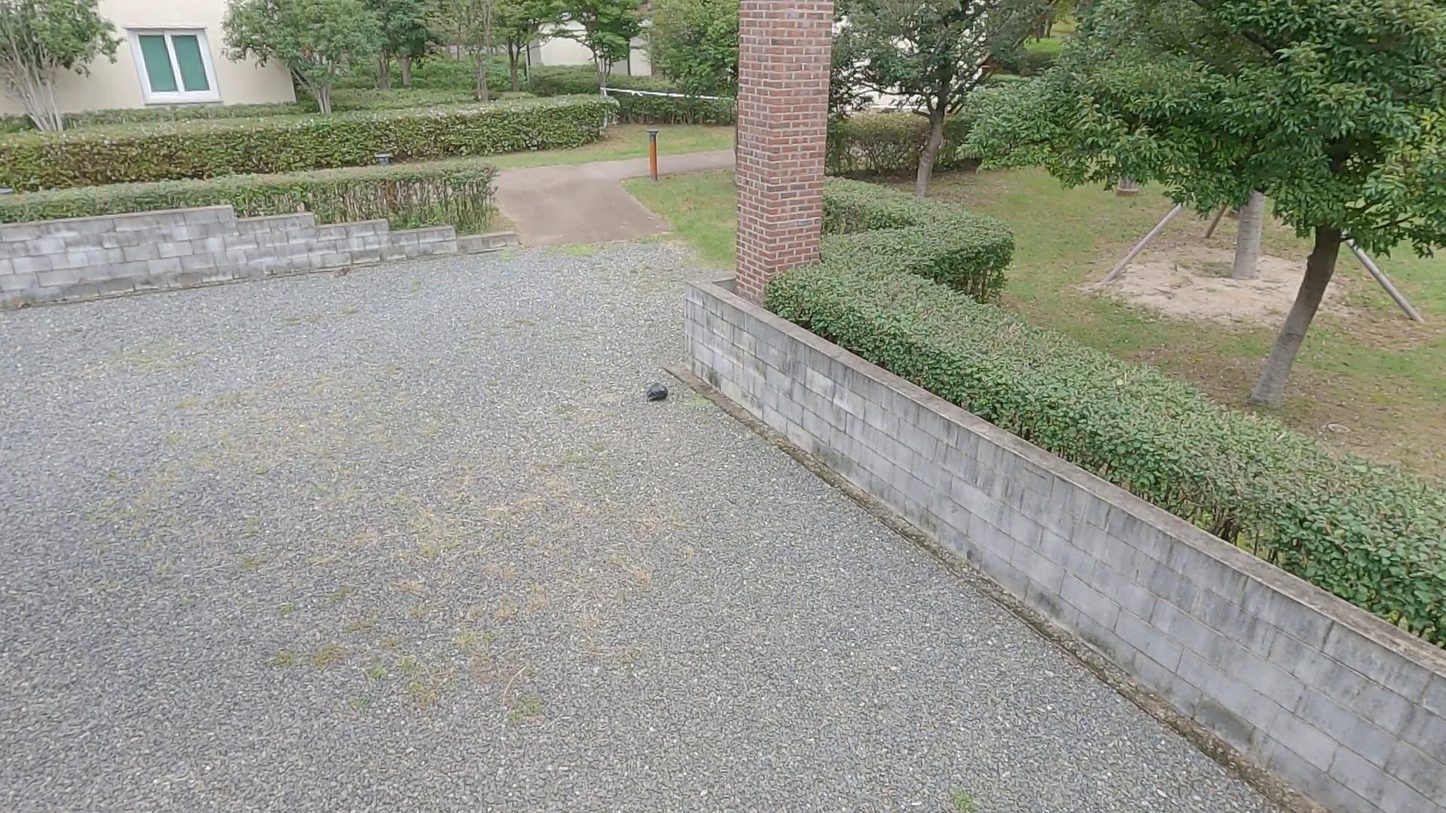trash: (645, 372, 671, 402)
